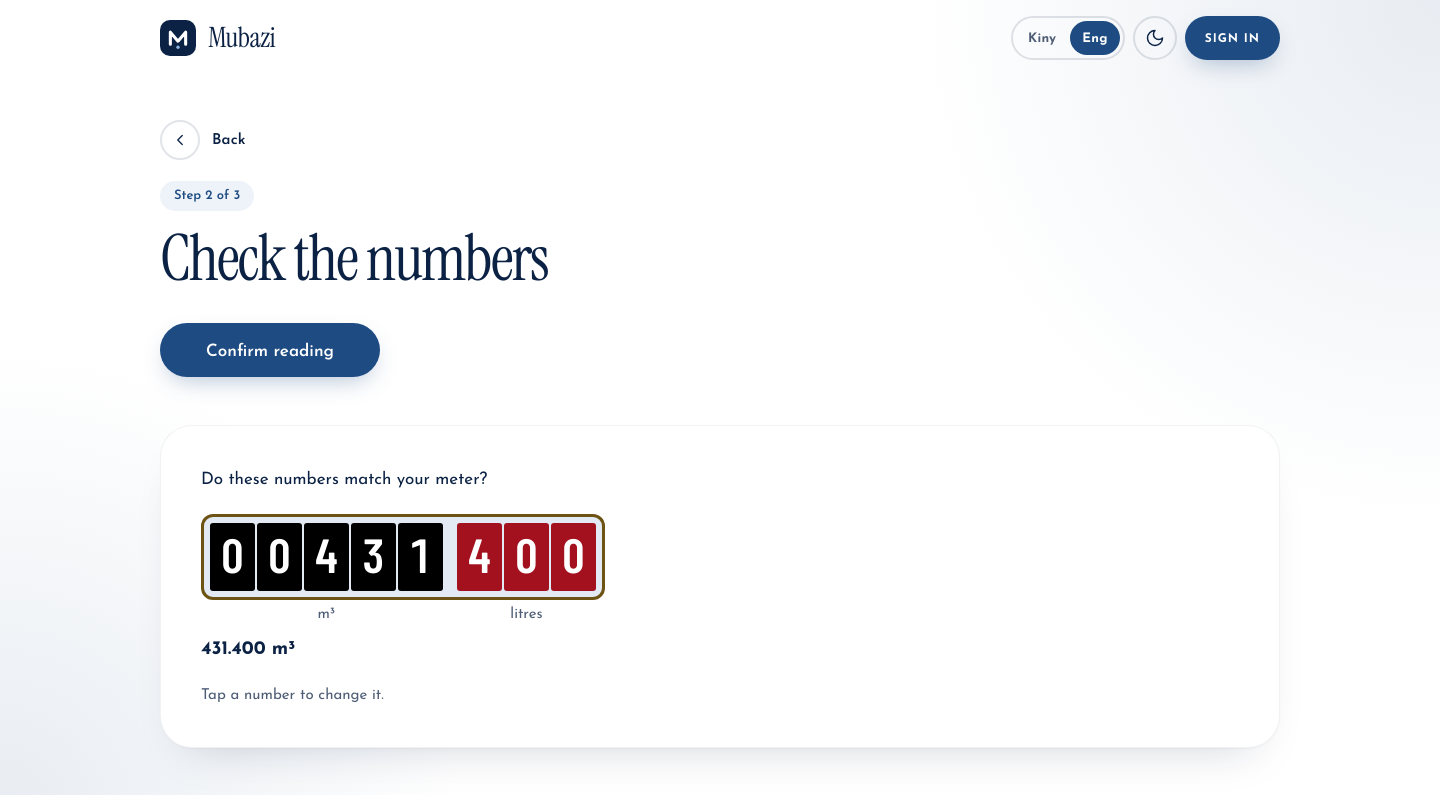
Test case: ConfirmReading › when the reading needs review, should explain why and send nothing yet
Click the button "Confirm reading".
click(270, 350)  # box top-left (160, 323), bottom-right (380, 377)
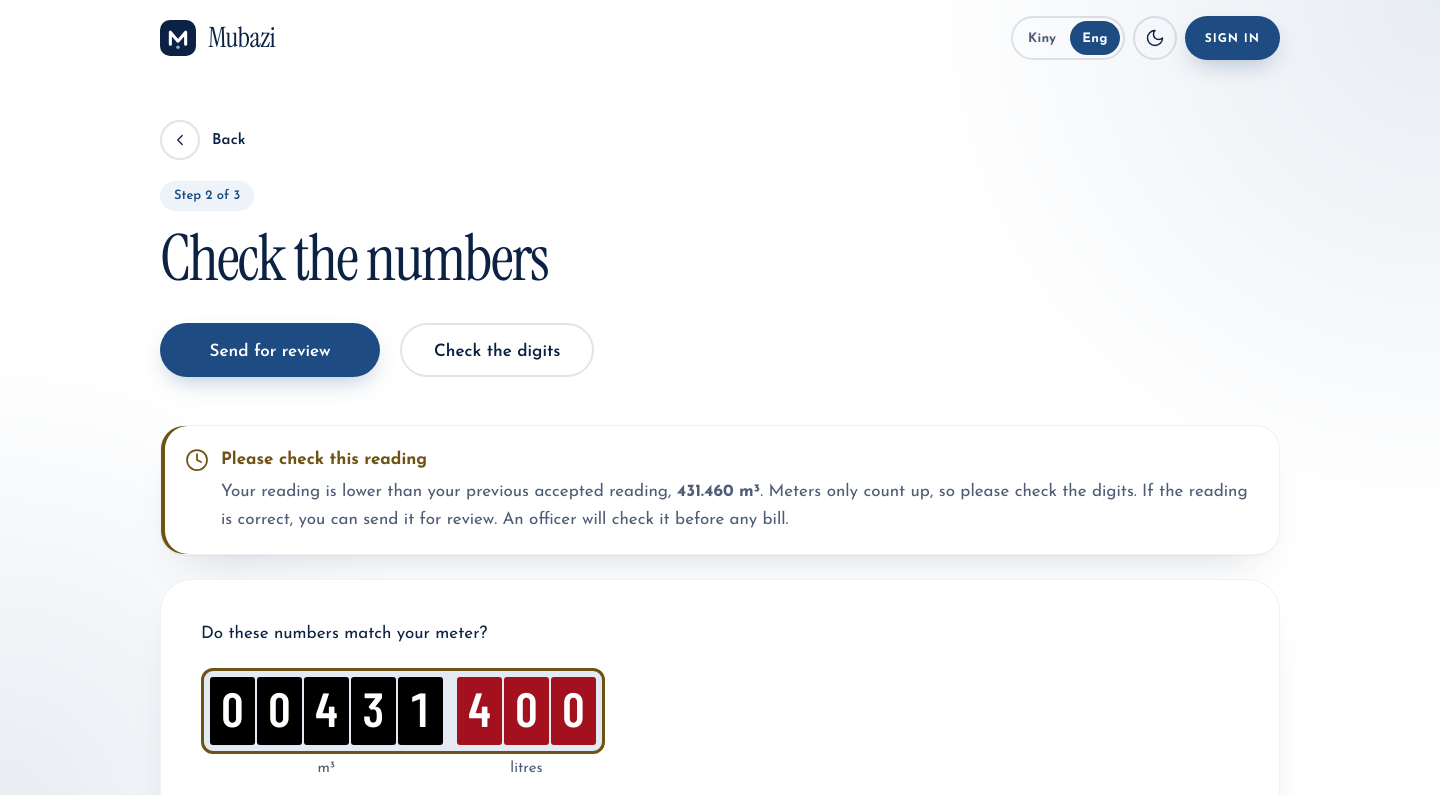
Check: the message shows "lower than your previous accepted reading, 431.460 m³", box top-left (160, 425), bottom-right (1280, 555)
Check: the message shows "you can send it for review", box top-left (221, 483), bottom-right (1248, 528)
Check: the button "Check the digits" is shown, box top-left (400, 323), bottom-right (594, 377)
